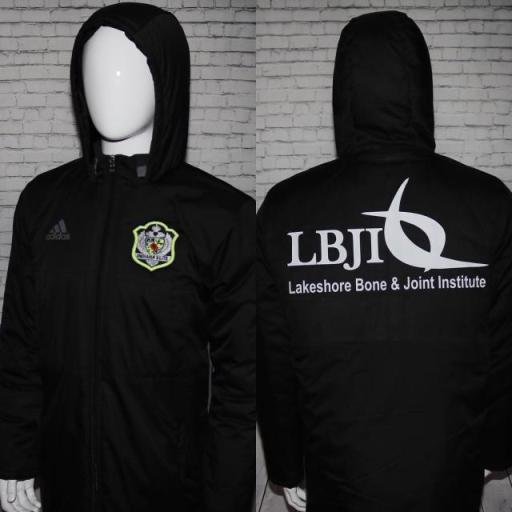Adidas: (44, 216, 72, 243)
